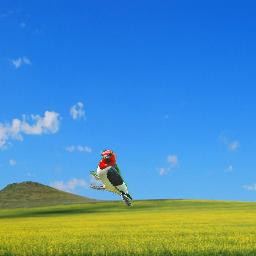Woodpecker: (90, 150, 134, 207)
